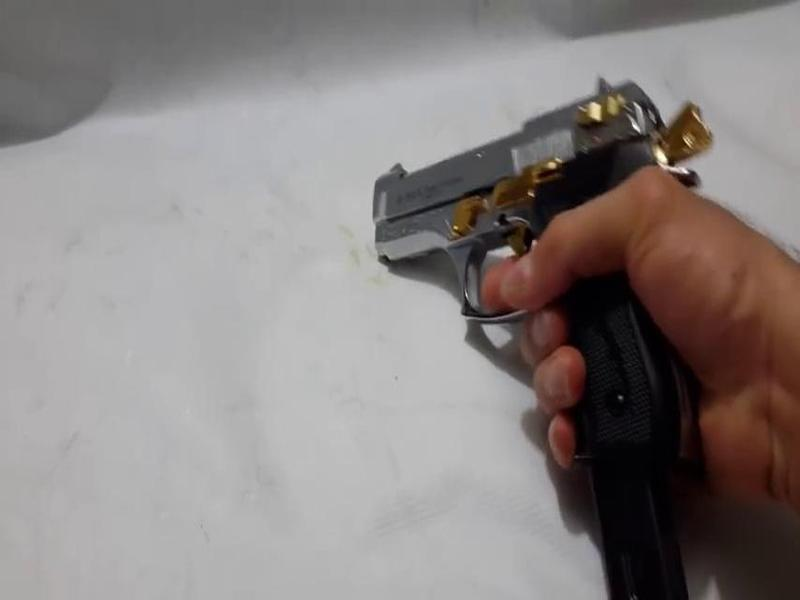Pistola: (363, 65, 721, 468)
